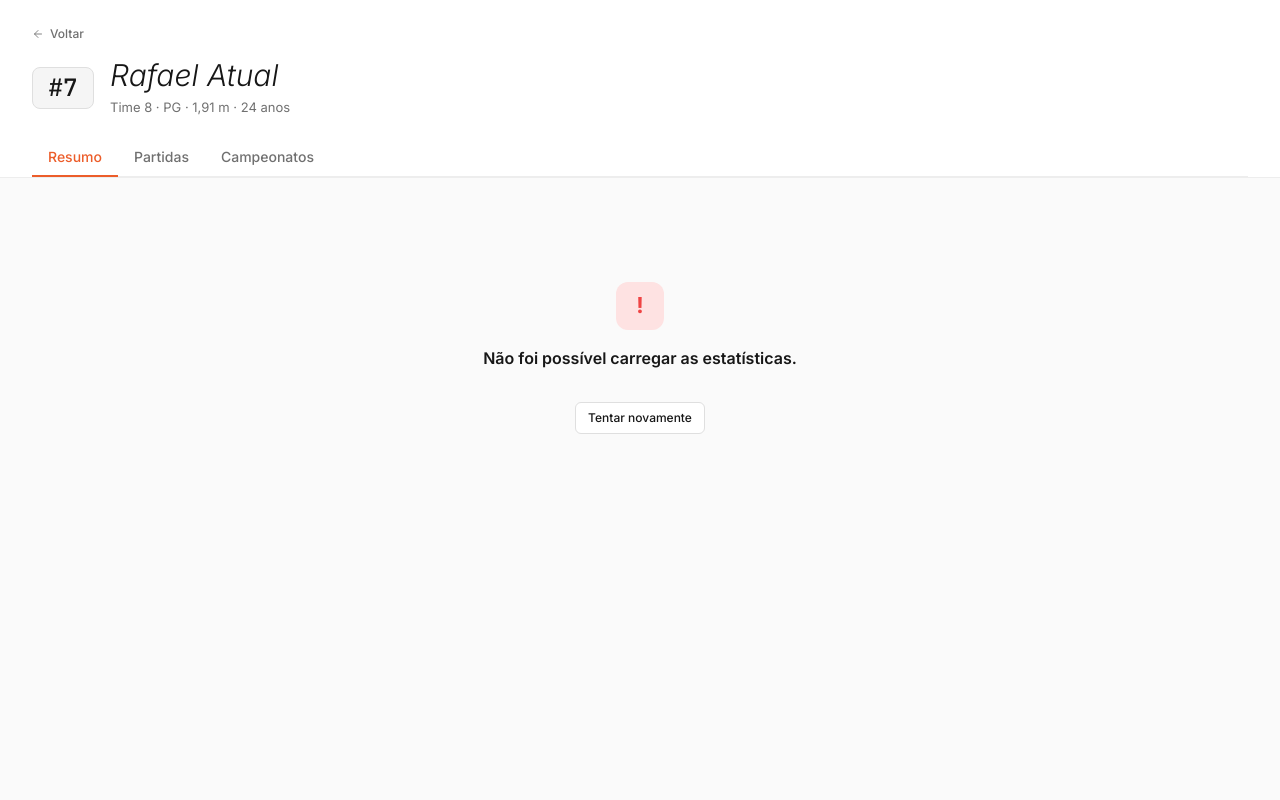
Test: AthleteDetailPage › keeps a statistics failure inside Summary and retries only that query
Expected: the heading "Rafael Atual" is shown, [110,57,278,93]
Expected: the text "Não foi possível carregar as estatísticas." is shown, [483,346,797,370]
Click the button "Tentar novamente".
click(640, 418)  # box [575,402,705,434]
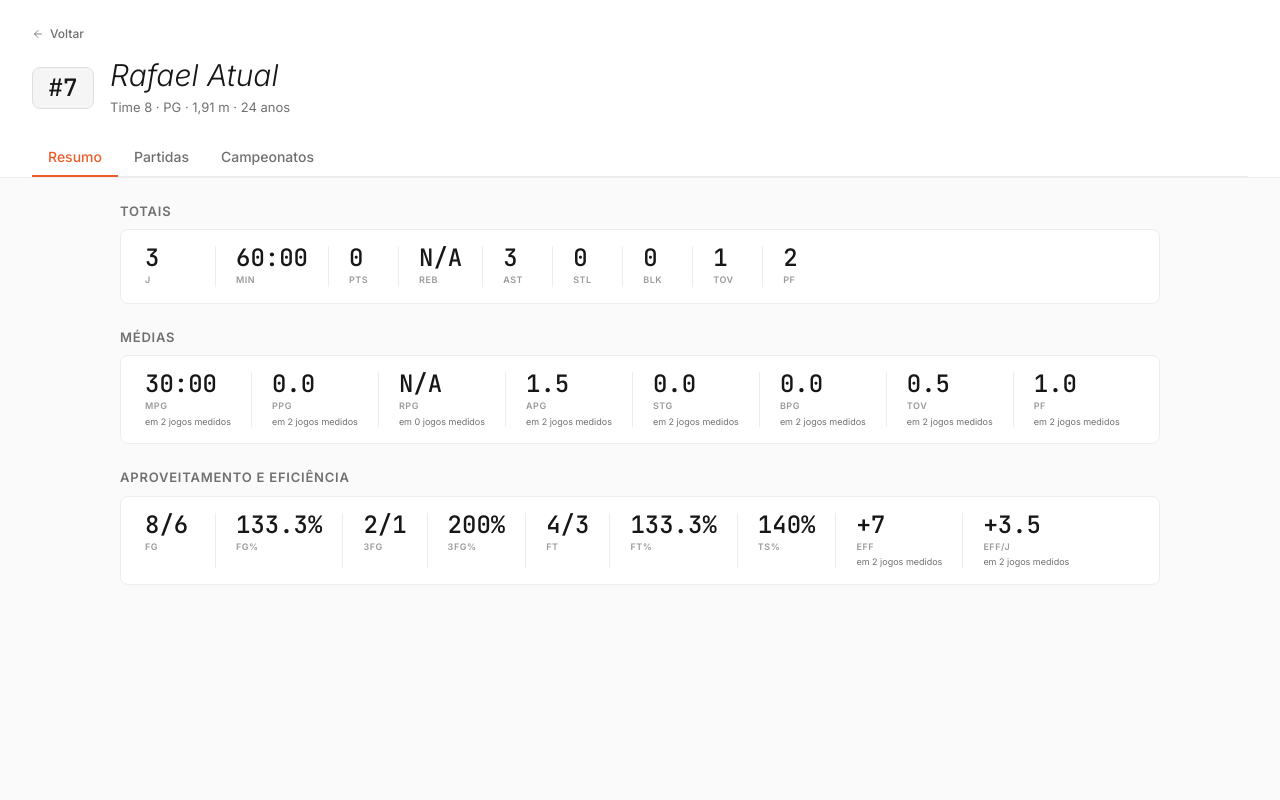
Result: the heading "Totais" is shown at [120,202,171,221]
